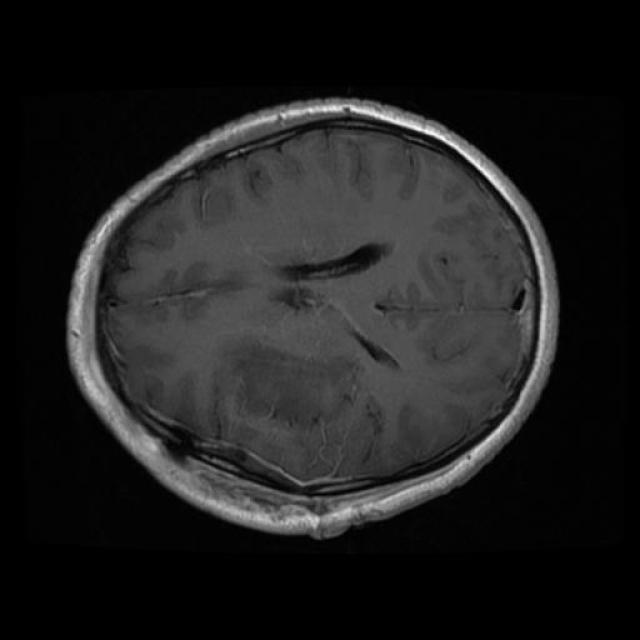Glioma: (193, 345, 384, 484)
